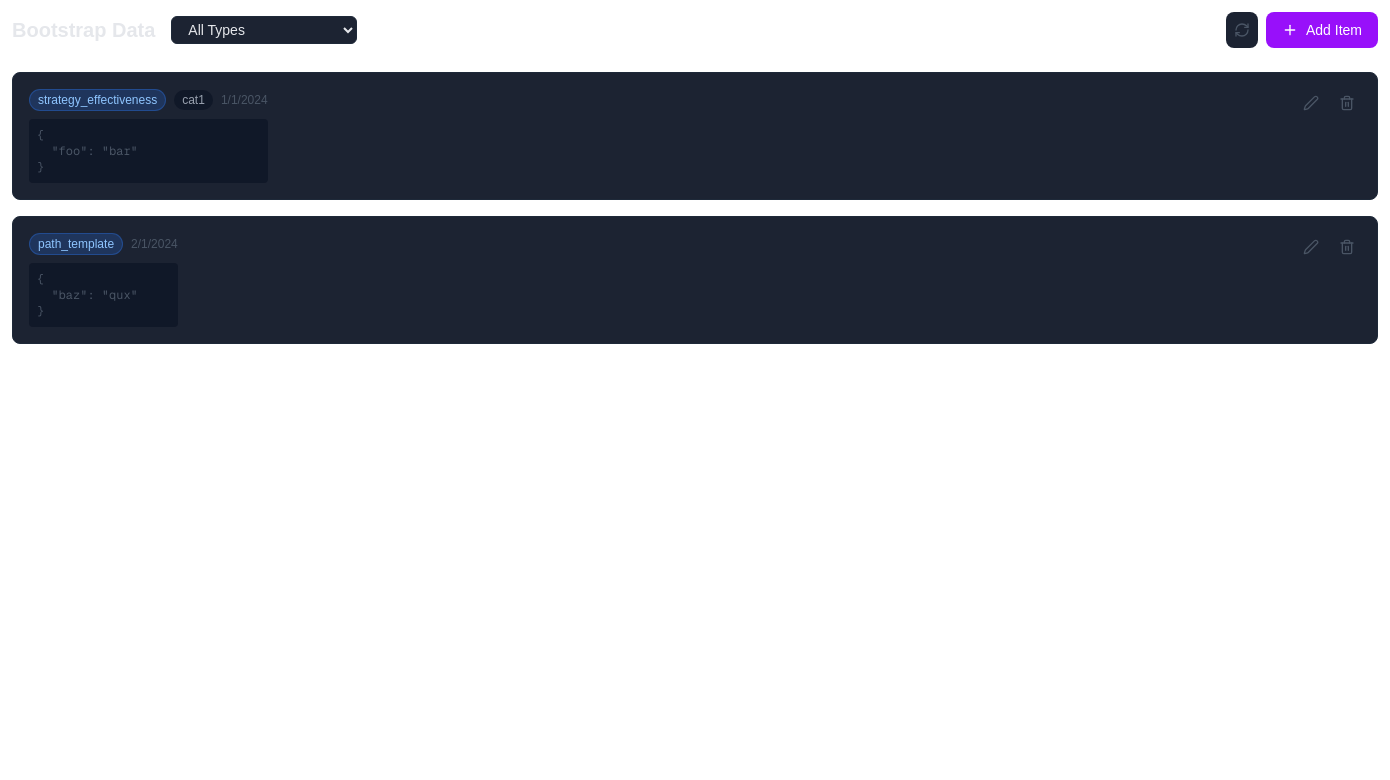
Test: BootstrapTab › handles save error
Check: the text "cat1" is shown, box [174,90,213,110]
Click the button with test id "edit-btn-b1" at {"x": 1311, "y": 103}, box [1297,89,1325,117]
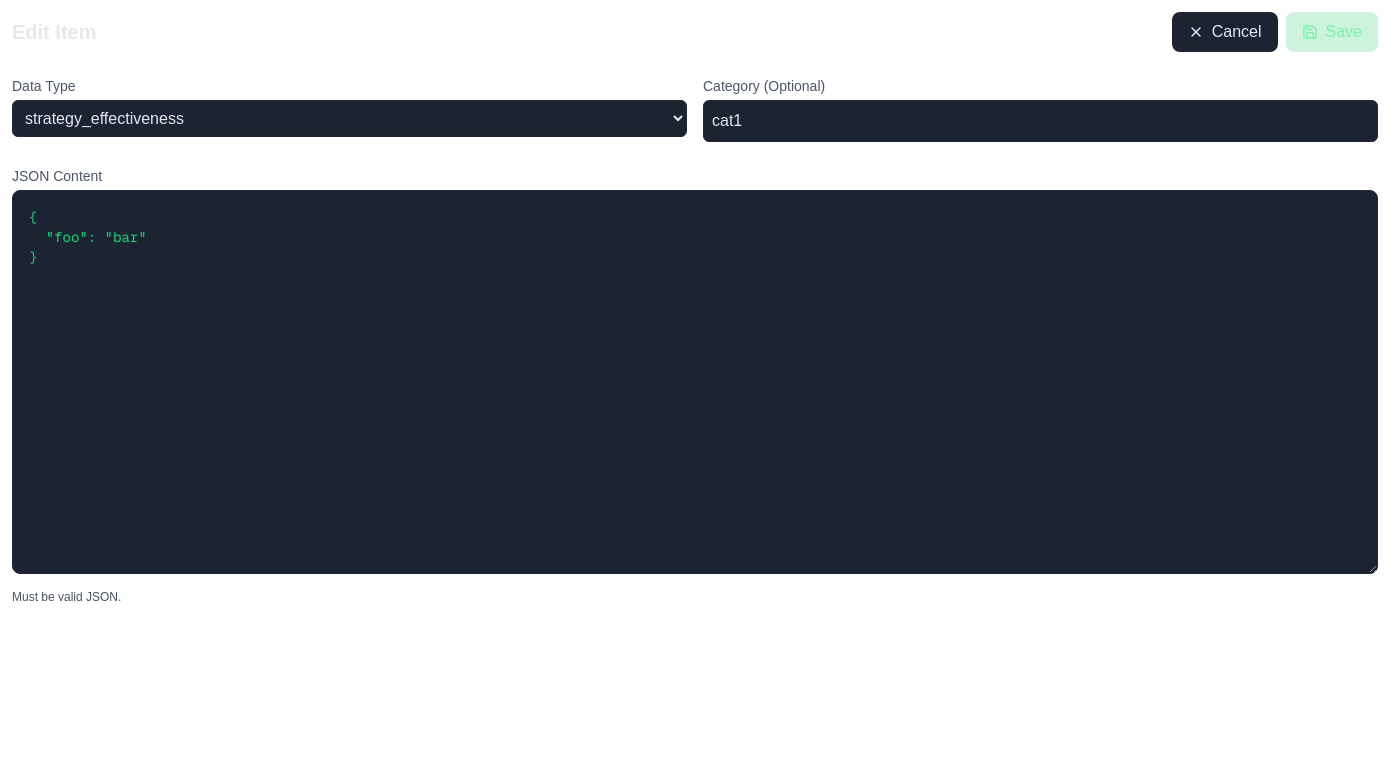
Click the button with aria-label "Save Item" at {"x": 1332, "y": 32}, box [1286,12,1378,52]
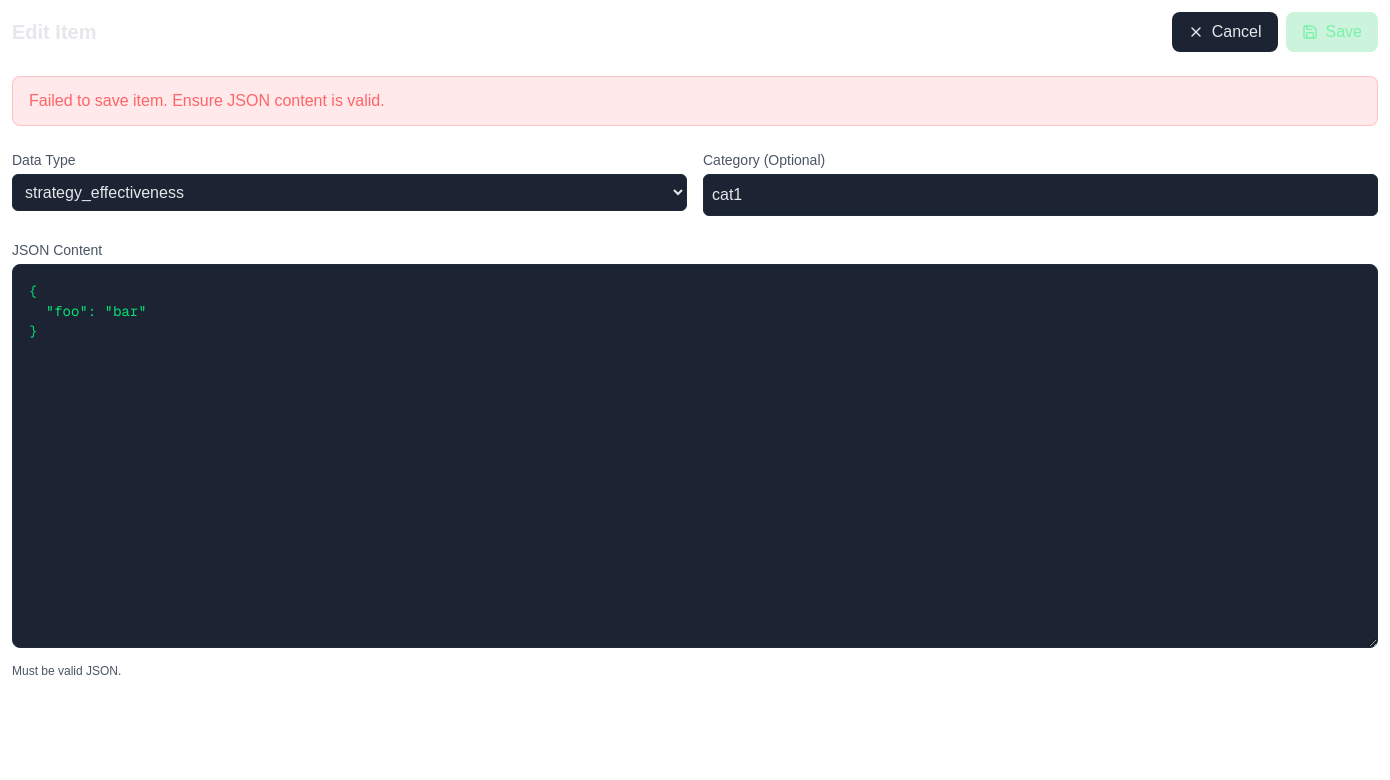
Check: the text "Failed to save item. Ensure JSON content is valid." is shown, box [12,76,1378,126]
